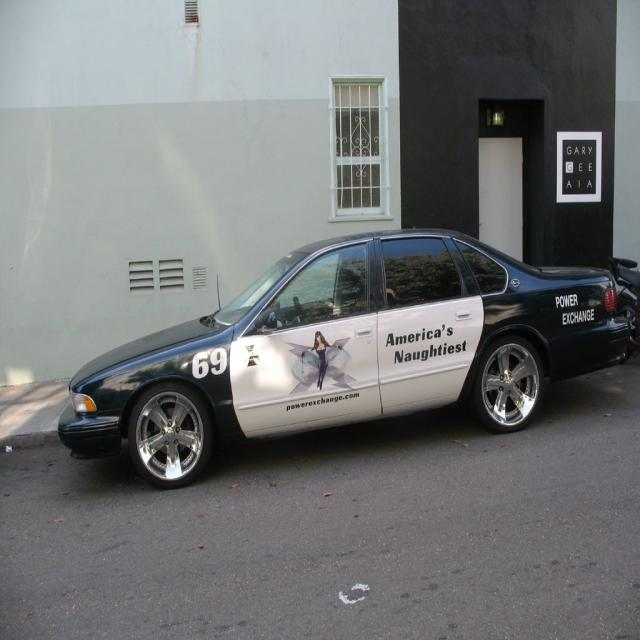car: (53, 228, 639, 485)
